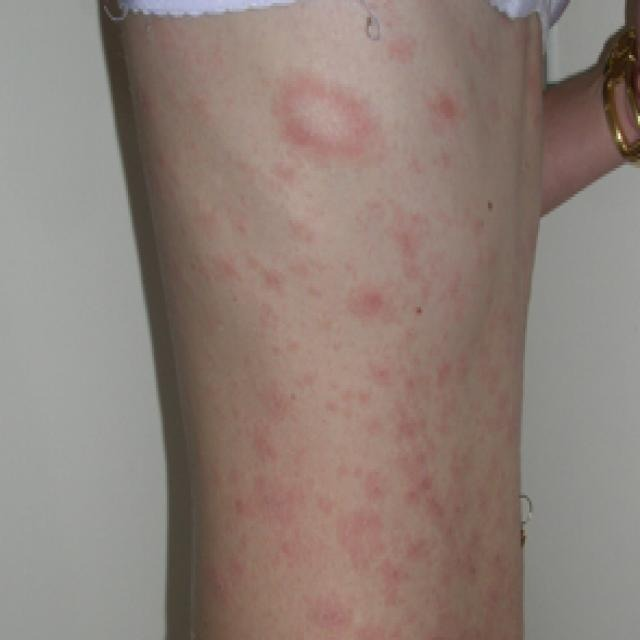Ringworm: (267, 52, 382, 163)
